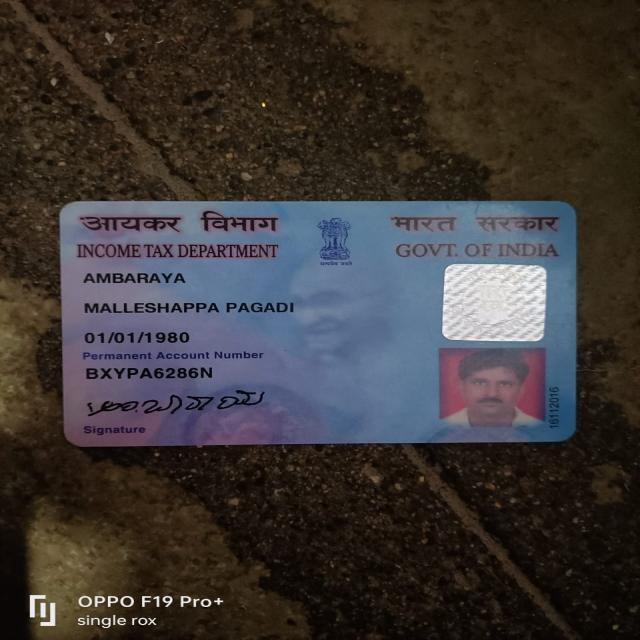pan_card: (58, 200, 581, 449)
